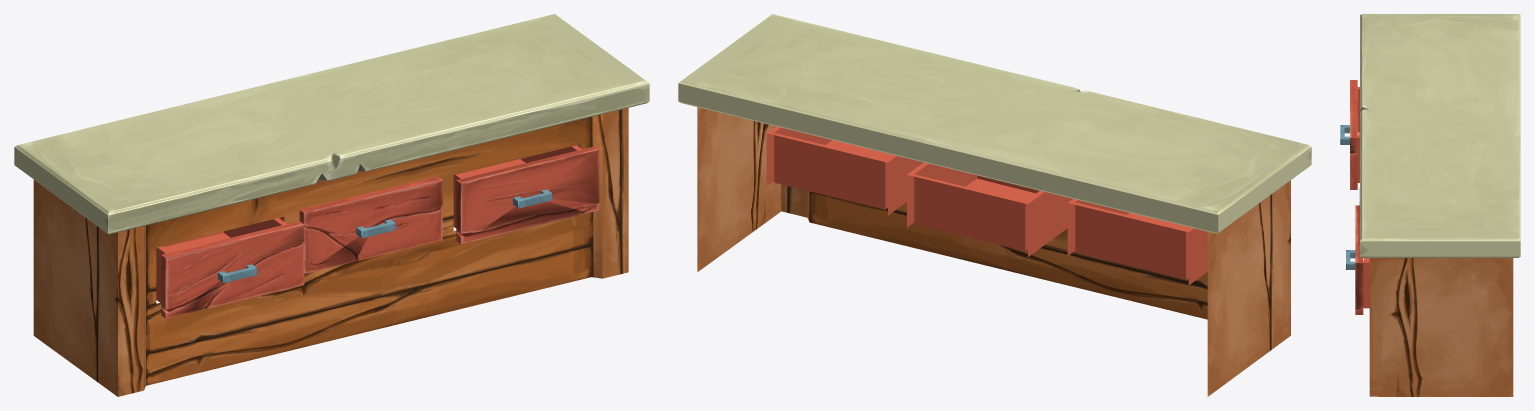
The model's file is Countercomplete.fbx.
3 renders of one model, left to right at view 1: azimuth 30°, elevation 25°; view 2: azimuth 150°, elevation 25°; view 3: azimuth 270°, elevation 25°, orthographic. The views are drawn at different scales.
Visible parts, largest first — view 1: Counter, Counter_Slab, drawer1, drawer3, drawer2; view 2: Counter_Slab, Counter, drawer2, drawer3, drawer1; view 3: Counter_Slab, Counter, drawer3, drawer1, Drawer_Handle1, Drawer_Handle3.
Boxes of the visible parts, x1=… form: Counter: x1=33, y1=108, x2=628, y2=396; Counter_Slab: x1=14, y1=14, x2=649, y2=234; drawer1: x1=156, y1=218, x2=304, y2=318; drawer3: x1=453, y1=145, x2=599, y2=243; drawer2: x1=279, y1=176, x2=442, y2=273; Counter_Slab: x1=678, y1=14, x2=1311, y2=233; Counter: x1=697, y1=107, x2=1290, y2=396; drawer2: x1=907, y1=162, x2=1072, y2=256; drawer3: x1=766, y1=126, x2=923, y2=215; drawer1: x1=1067, y1=199, x2=1207, y2=285; Counter_Slab: x1=1360, y1=14, x2=1520, y2=257; Counter: x1=1369, y1=258, x2=1513, y2=396; drawer3: x1=1355, y1=205, x2=1369, y2=314; drawer1: x1=1350, y1=80, x2=1359, y2=189; Drawer_Handle1: x1=1340, y1=125, x2=1349, y2=144; Drawer_Handle3: x1=1346, y1=250, x2=1355, y2=269.
Bounding box in the file's own units: 380 × 129 × 128.
Materials: 8 (8 with a texture image).
